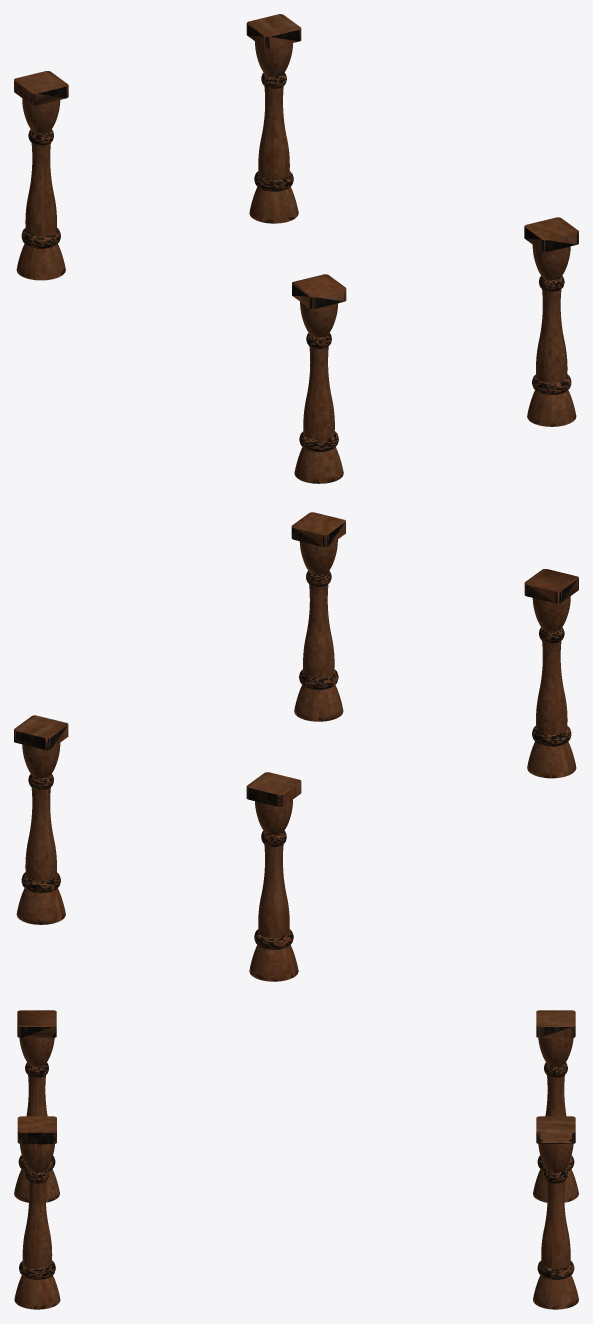
Rendered from foot.obj.
The picture shows the model from 3 angles, top to bottom: view 1: azimuth 30°, elevation 25°; view 2: azimuth 150°, elevation 25°; view 3: azimuth 270°, elevation 25°; orthographic projection. The views are drawn at different scales.
Visible parts, largest first — view 1: feet_mesh1_mesh1-geometry.003; view 2: feet_mesh1_mesh1-geometry.003; view 3: feet_mesh1_mesh1-geometry.003.
Part boxes in pixels (<box>): feet_mesh1_mesh1-geometry.003: <box>14,14,578,483</box>; feet_mesh1_mesh1-geometry.003: <box>14,512,578,981</box>; feet_mesh1_mesh1-geometry.003: <box>14,1010,578,1309</box>.
Bounding box in the file's own units: 0.3583 × 0.2331 × 0.6813.
